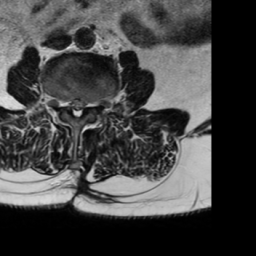CCS_normal: (74, 94, 80, 123)
LFS_stenosis: (88, 95, 95, 112)
LLS_stenosis: (81, 95, 87, 114)
RFS_stenosis: (60, 95, 68, 114)
RLS_stenosis: (67, 95, 75, 114)
